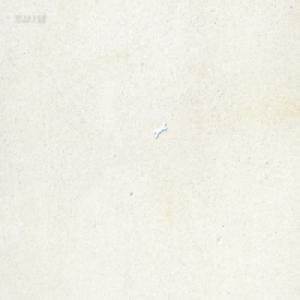Wrench: (153, 122, 167, 138)
